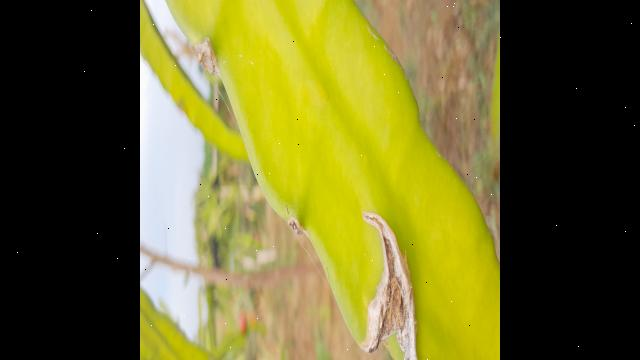stemcanker: (184, 30, 218, 89), (278, 212, 310, 244)
